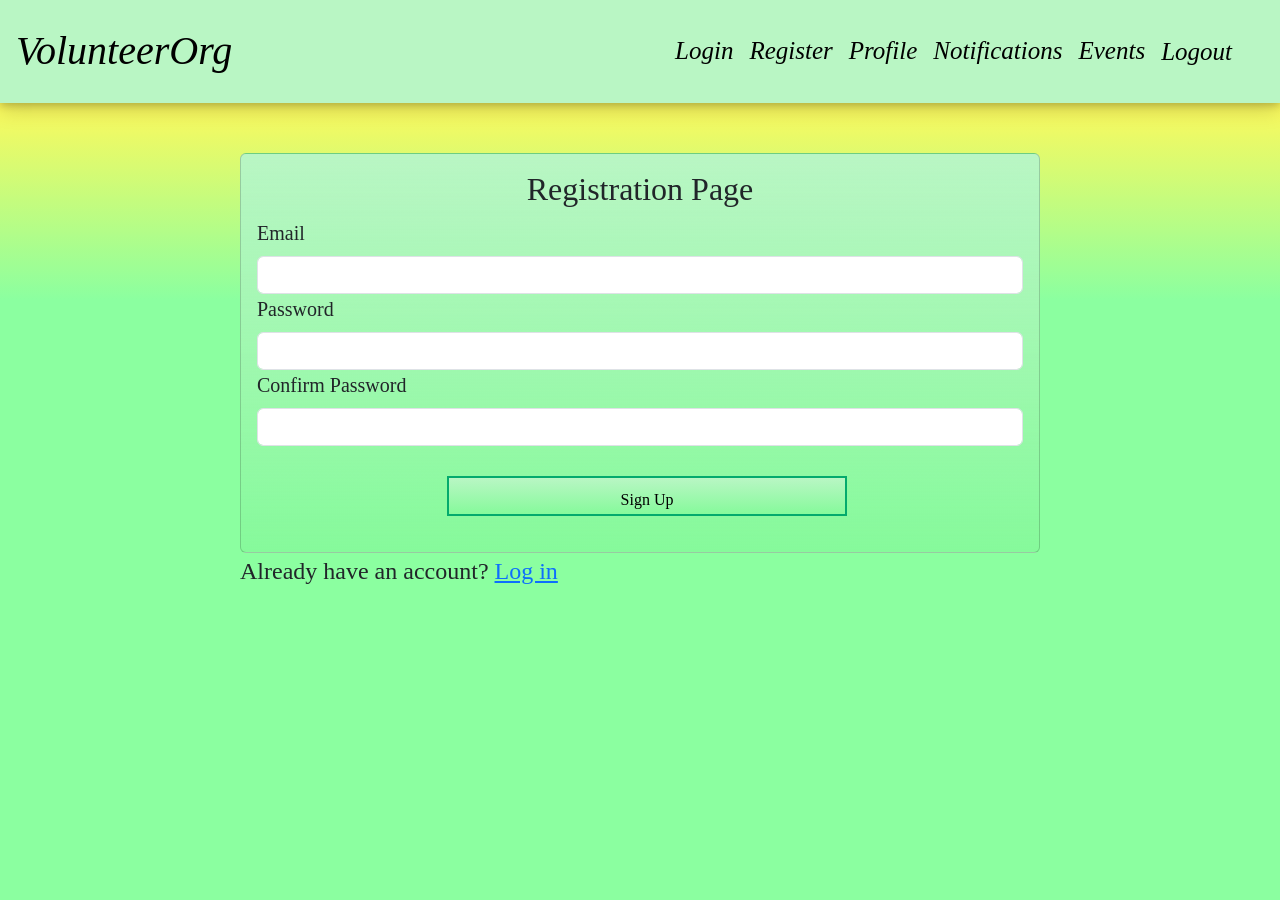
it: Signup Page Tests › handles registration with non-matching passwords
Type "test@example.com" into the field labelled "Email". click: (640, 275)
box: [257,256,1023,294]
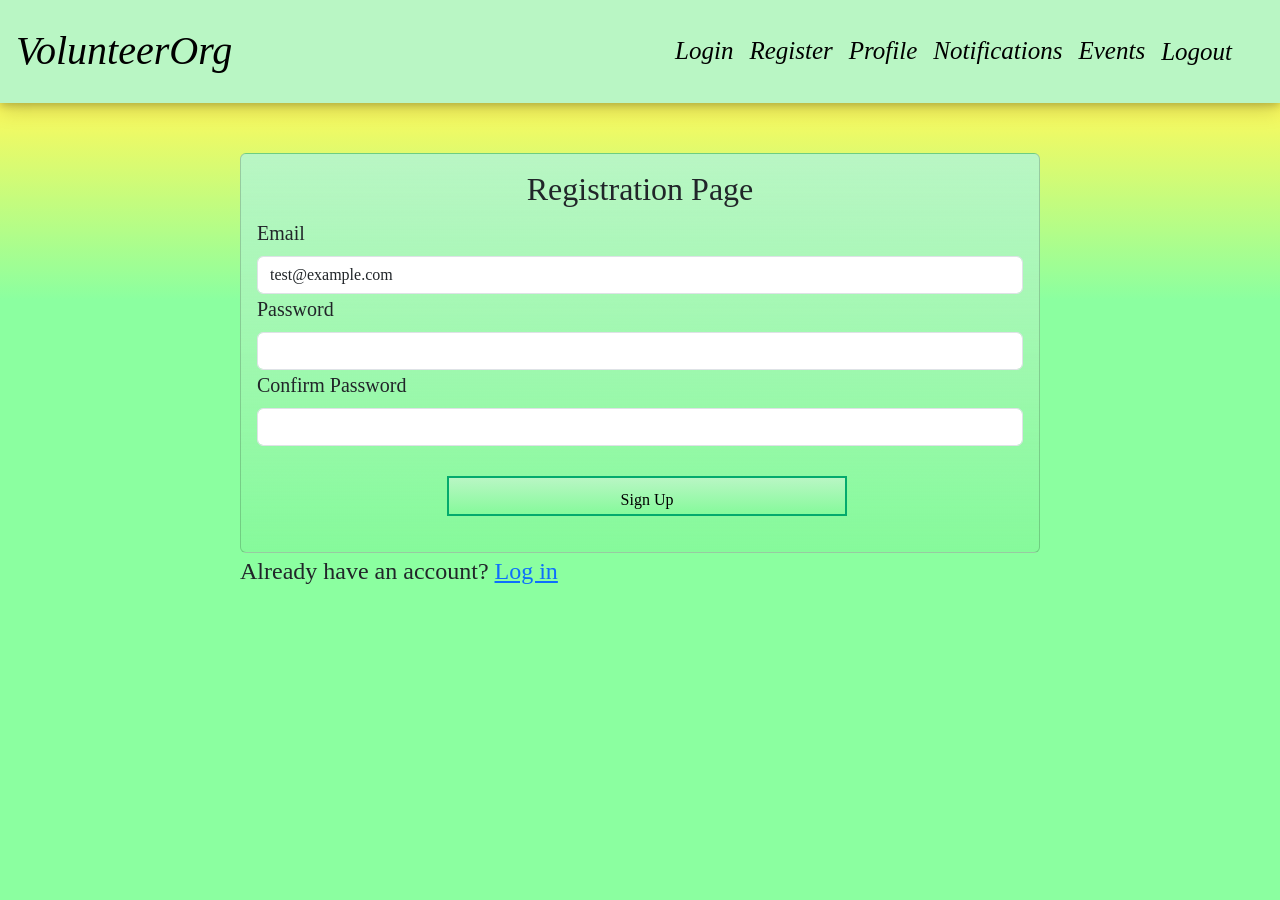
Type "password123" into the password field labelled "Password". click: (640, 351)
box: [257,332,1023,370]
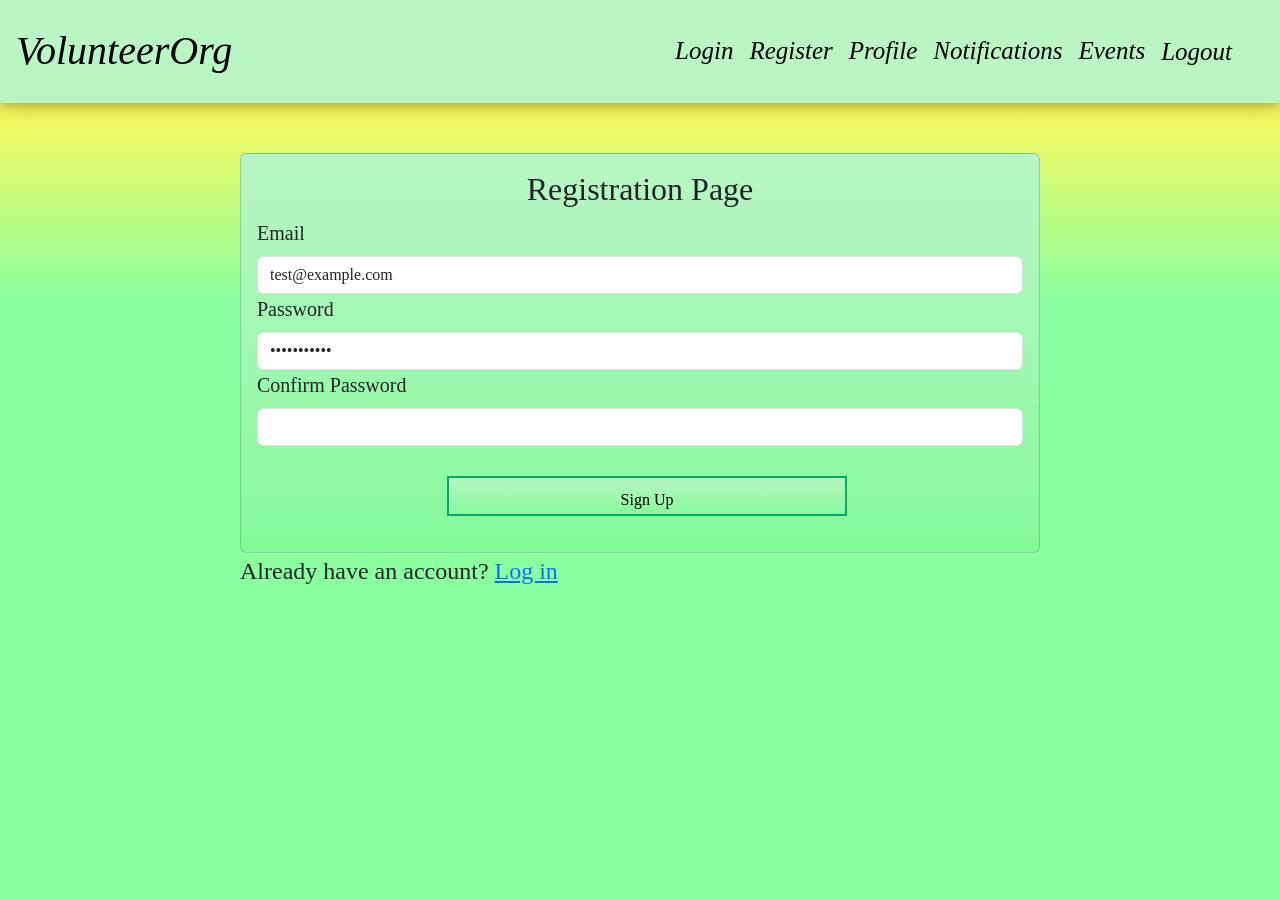
Type "password456" into the password field labelled "Confirm Password". click: (640, 427)
box: [257,408,1023,446]
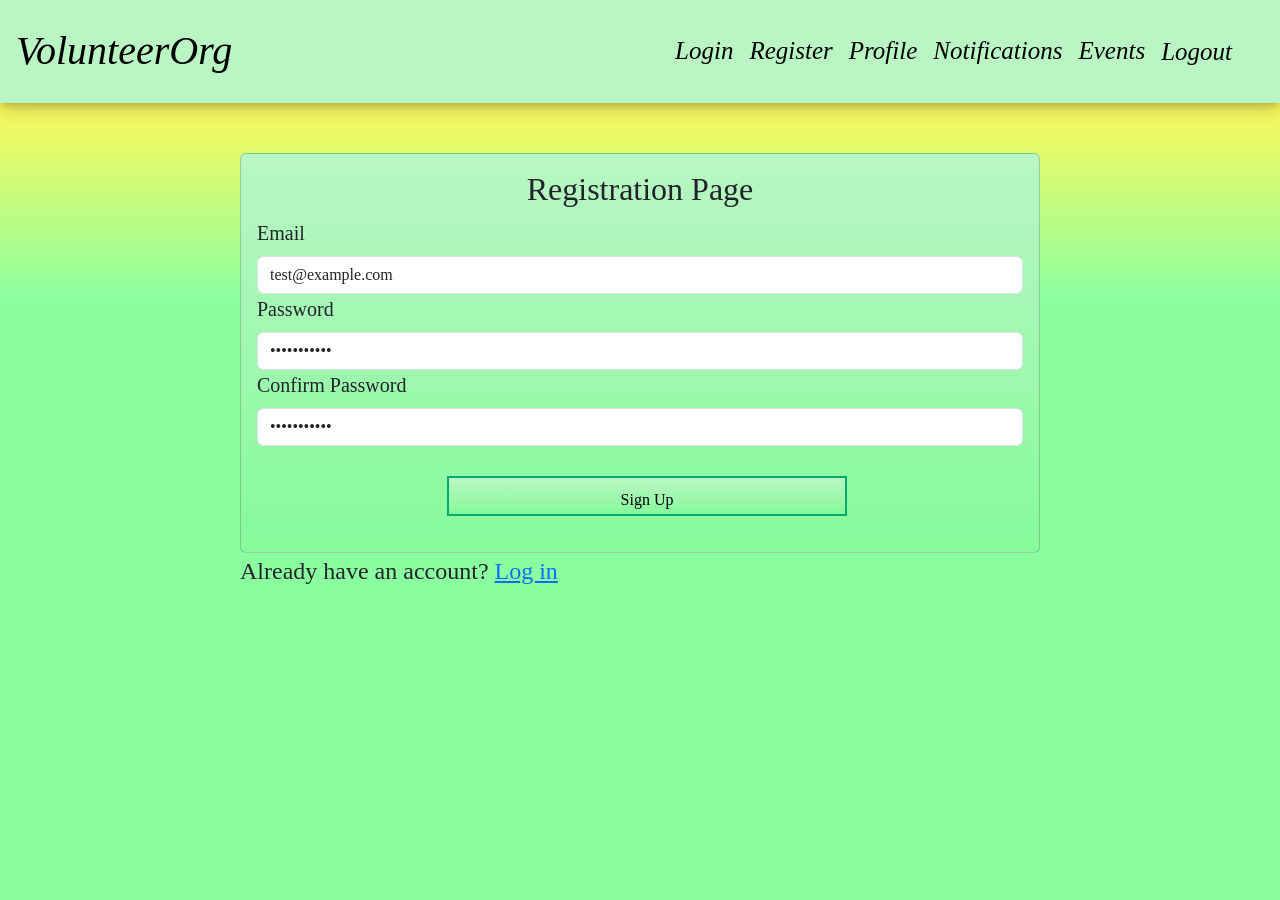
Click the button "Sign Up". click: click(647, 496)
box: [447,476,847,516]
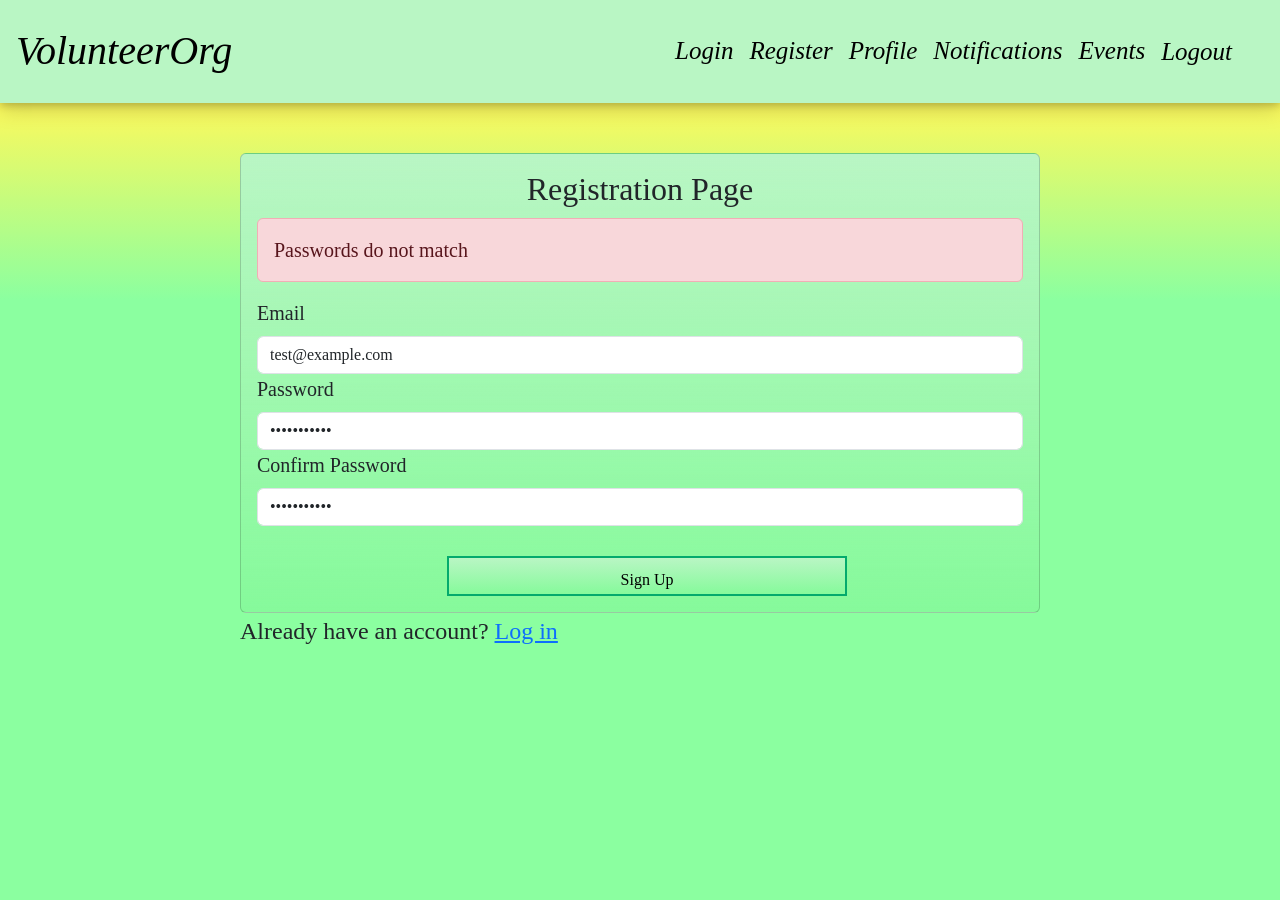
Result: the text "Passwords do not match" is shown at [257,218,1023,282]
